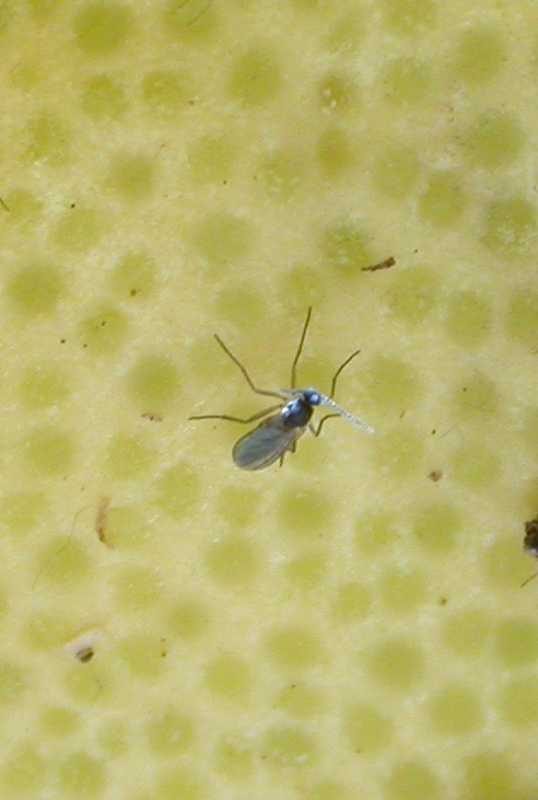insect: (190, 302, 363, 475)
